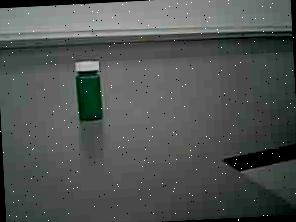Bottle C: (64, 52, 116, 129)
